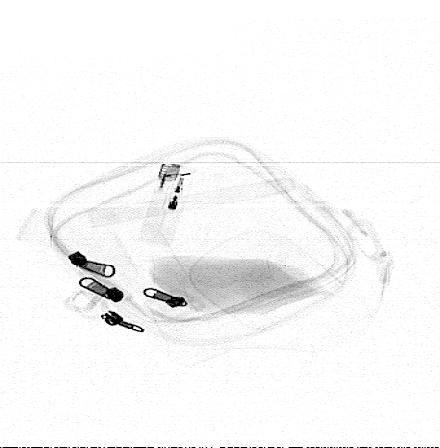Lighter: (139, 163, 197, 248)
